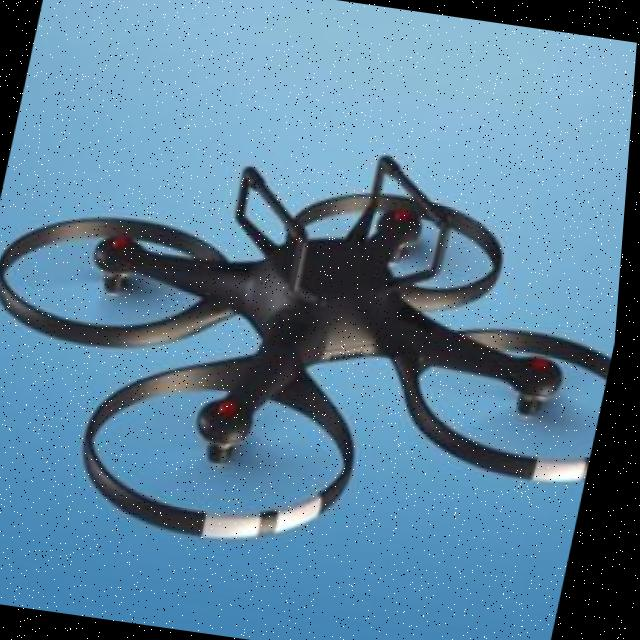drones: (0, 67, 636, 596)
